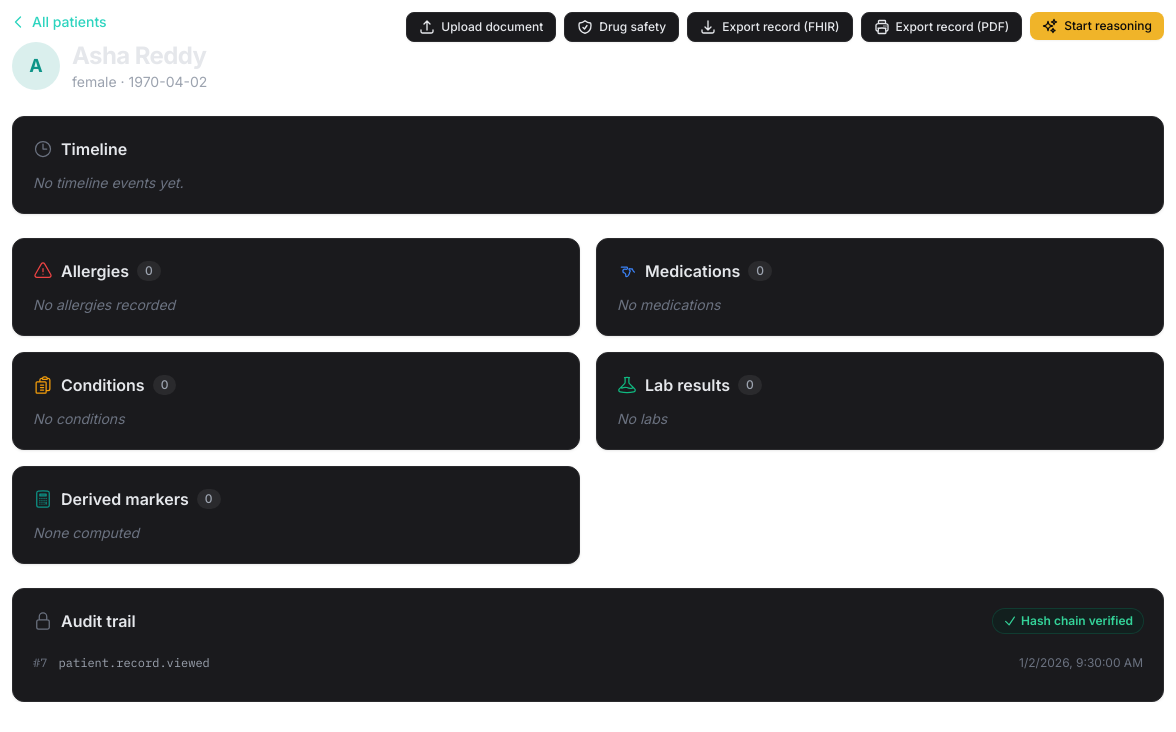
record export › asks for the password instead of an error when the API says the proof is stale
Check: the heading "Asha Reddy" is shown, box [72, 40, 207, 72]
Click the button "Export record (PDF)". click: click(941, 27)
box: [860, 12, 1022, 42]
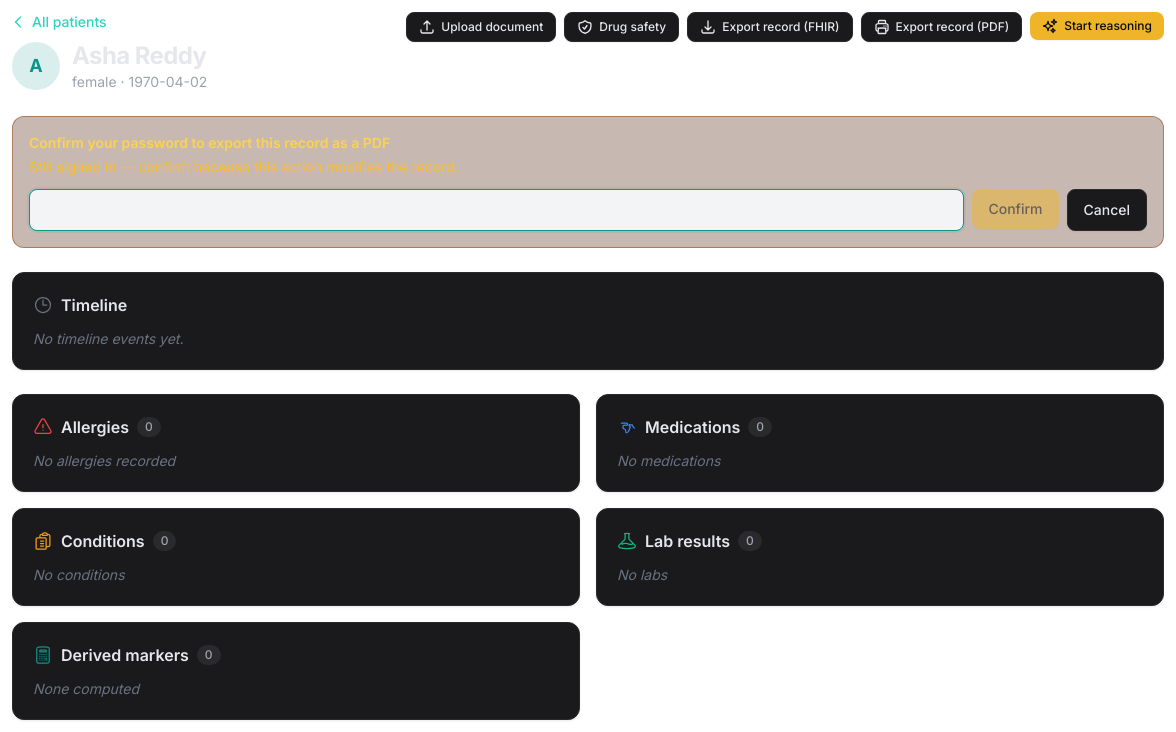
Check: the heading "Confirm your password to export this record as a PDF" is shown, box [29, 134, 390, 151]
